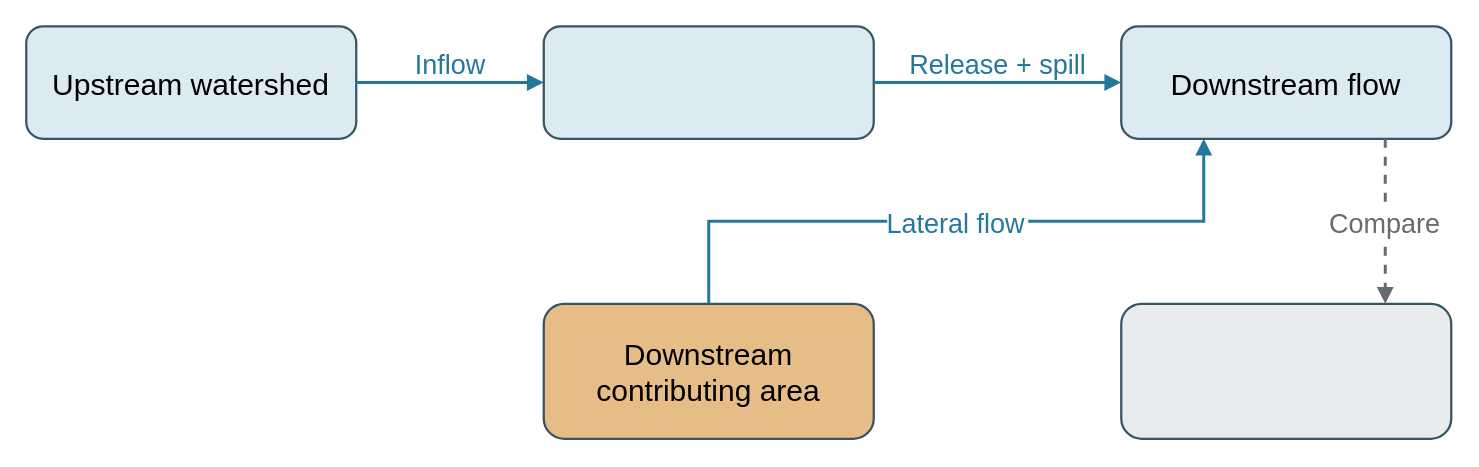
Image size: 1479x467. Some labels were removed from this diagram. The centre of each missing label's shape, as x and y in pixels:
FE Walter reservoir: point (708, 81)
USGS observations: point (1285, 370)
